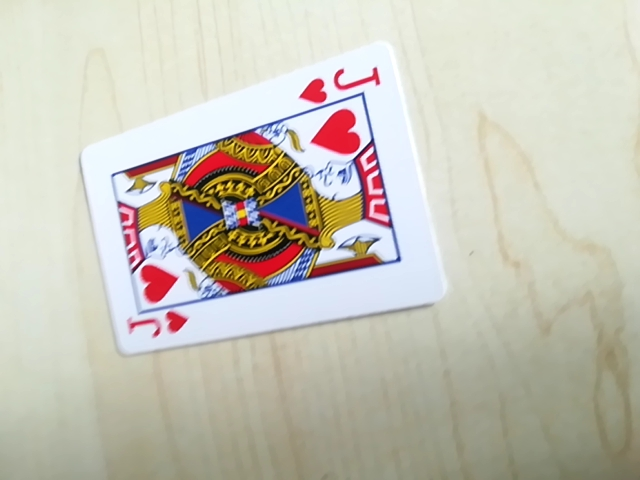hx j: (297, 57, 386, 106), (121, 304, 192, 349)
